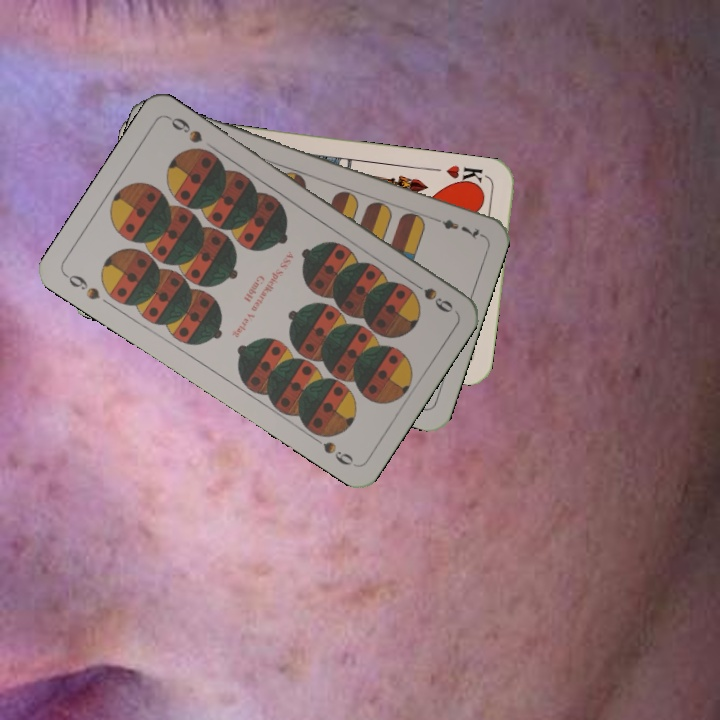E7: (427, 213, 484, 242)
HK: (441, 161, 485, 191)
S9: (404, 275, 456, 316), (61, 270, 103, 303)
